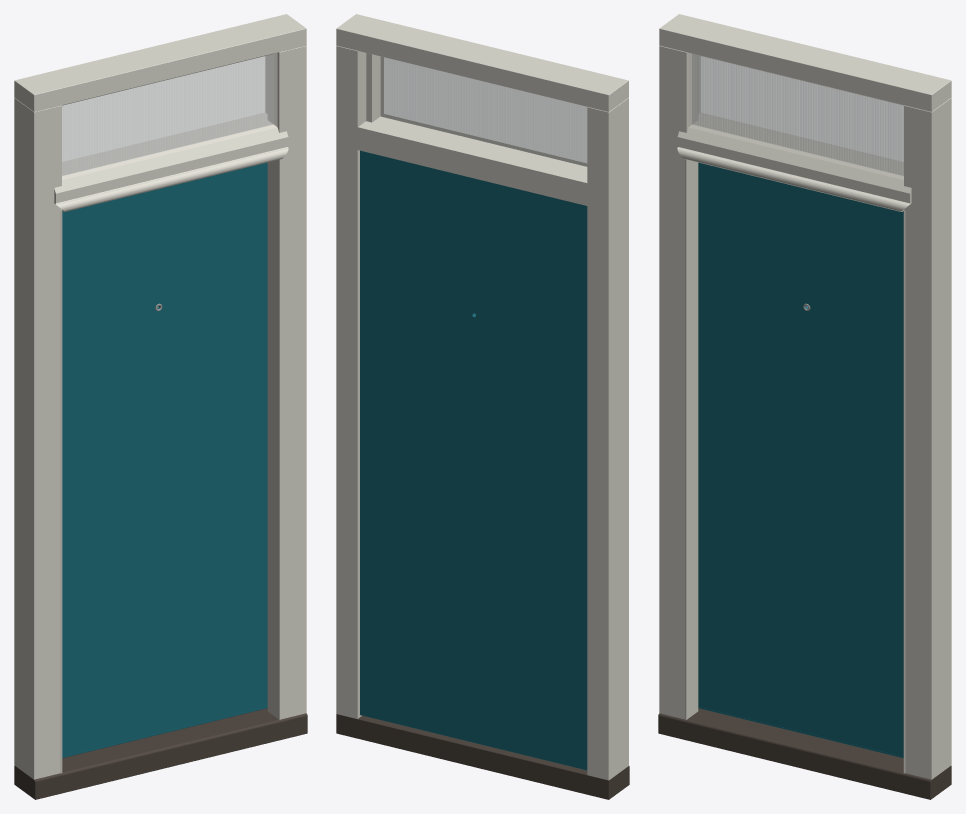
Rendered from door_F6.glb.
3 views of the same model, side by side, from view 1: azimuth 30°, elevation 25°; view 2: azimuth 150°, elevation 25°; view 3: azimuth 330°, elevation 25° (orthographic).
Visible parts, largest first — view 1: leaf_frame, frame_jamb_L, frame_jamb_R, glass_fanlight_flutes, glass_fanlight, frame_transom, frame_head, stone_threshold, frame_stop_bead_L, frame_glazing_bead, frame_stop_bead_R; view 2: leaf_frame, frame_jamb_L, frame_jamb_R, glass_fanlight, glass_fanlight_flutes, frame_head, frame_transom, stone_threshold, frame_glazing_bead; view 3: leaf_frame, frame_jamb_R, frame_jamb_L, glass_fanlight_flutes, glass_fanlight, frame_transom, frame_head, stone_threshold, frame_stop_bead_R, frame_glazing_bead, frame_stop_bead_L.
Part boxes in pixels (x1=…): leaf_frame: x1=62, y1=162, x2=267, y2=758; frame_jamb_L: x1=14, y1=97, x2=61, y2=779; frame_jamb_R: x1=265, y1=45, x2=306, y2=719; glass_fanlight_flutes: x1=62, y1=54, x2=273, y2=175; glass_fanlight: x1=62, y1=54, x2=273, y2=175; frame_transom: x1=54, y1=113, x2=288, y2=211; frame_head: x1=14, y1=14, x2=306, y2=111; stone_threshold: x1=14, y1=708, x2=307, y2=799; frame_stop_bead_L: x1=60, y1=210, x2=62, y2=773; frame_glazing_bead: x1=62, y1=52, x2=277, y2=179; frame_stop_bead_R: x1=279, y1=159, x2=280, y2=719; leaf_frame: x1=360, y1=150, x2=587, y2=770; frame_jamb_L: x1=587, y1=98, x2=628, y2=780; frame_jamb_R: x1=336, y1=45, x2=380, y2=718; glass_fanlight: x1=381, y1=57, x2=586, y2=166; glass_fanlight_flutes: x1=382, y1=57, x2=586, y2=165; frame_head: x1=336, y1=14, x2=628, y2=111; frame_transom: x1=357, y1=116, x2=587, y2=205; stone_threshold: x1=336, y1=714, x2=629, y2=799; frame_glazing_bead: x1=381, y1=56, x2=587, y2=166; leaf_frame: x1=698, y1=162, x2=903, y2=758; frame_jamb_R: x1=904, y1=97, x2=951, y2=779; frame_jamb_L: x1=659, y1=45, x2=700, y2=719; glass_fanlight_flutes: x1=692, y1=54, x2=903, y2=175; glass_fanlight: x1=692, y1=54, x2=903, y2=175; frame_transom: x1=677, y1=113, x2=911, y2=211; frame_head: x1=659, y1=14, x2=951, y2=111; stone_threshold: x1=658, y1=708, x2=951, y2=799; frame_stop_bead_R: x1=903, y1=210, x2=905, y2=773; frame_glazing_bead: x1=688, y1=52, x2=903, y2=179; frame_stop_bead_L: x1=685, y1=159, x2=686, y2=719.
Bounding box in the file's own units: 1 × 2.47 × 0.149.
